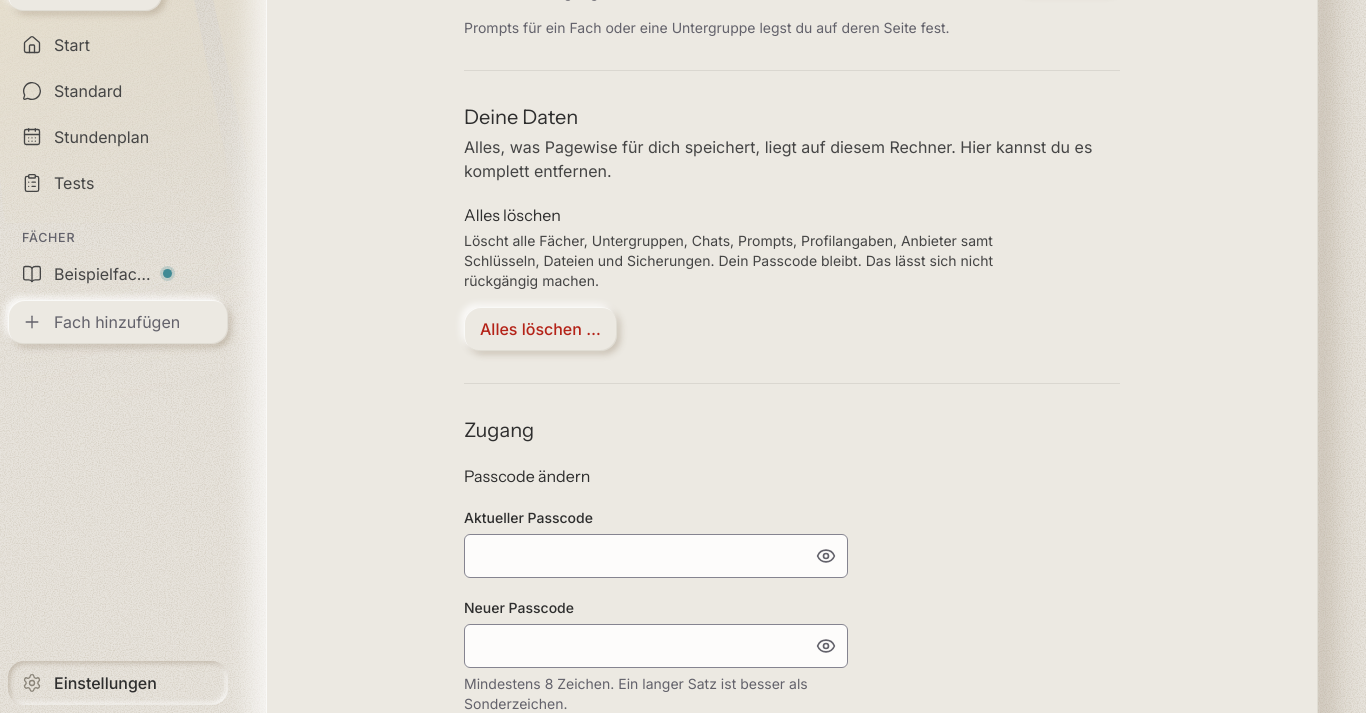
Scenario: Alles löschen › löscht nichts, solange man abbricht oder schließt
(page scrolled)
Click the button "Alles löschen …": (540, 329) x1=464 y1=307 x2=617 y2=351
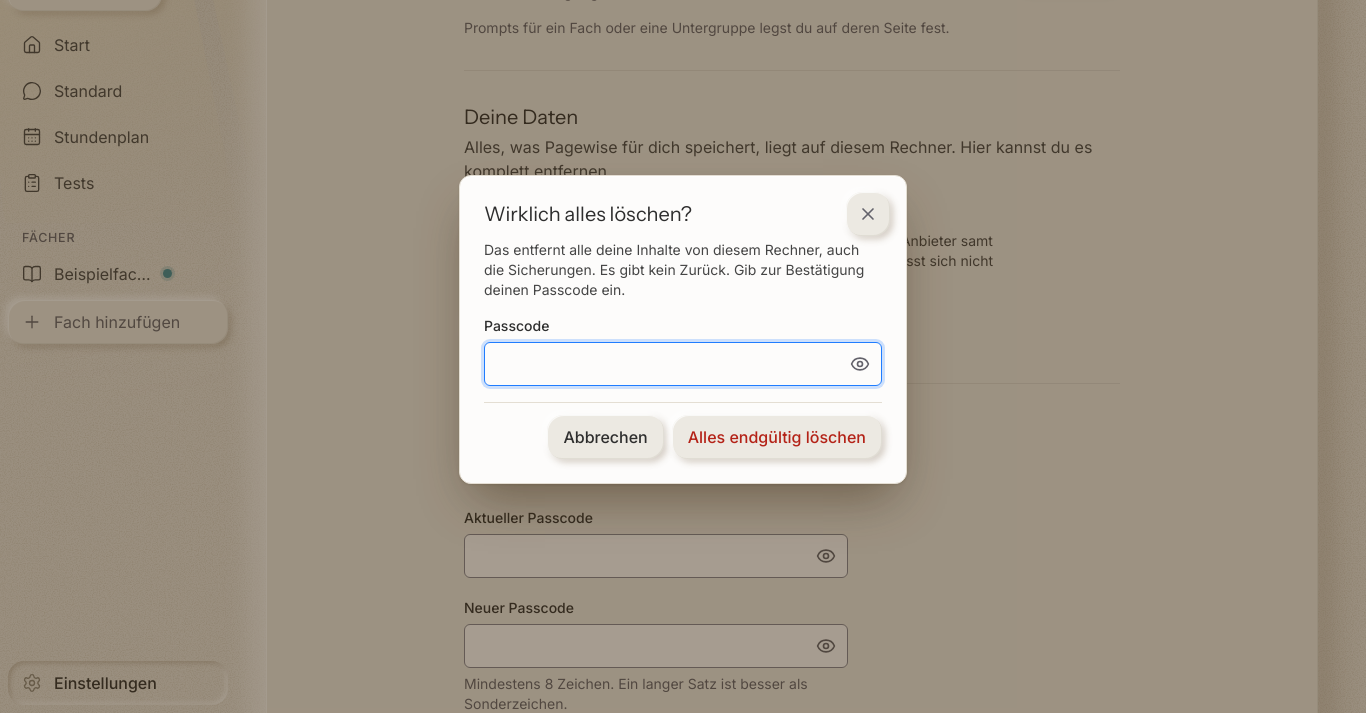
Click the button "Abbrechen": (606, 436) x1=547 y1=414 x2=664 y2=458
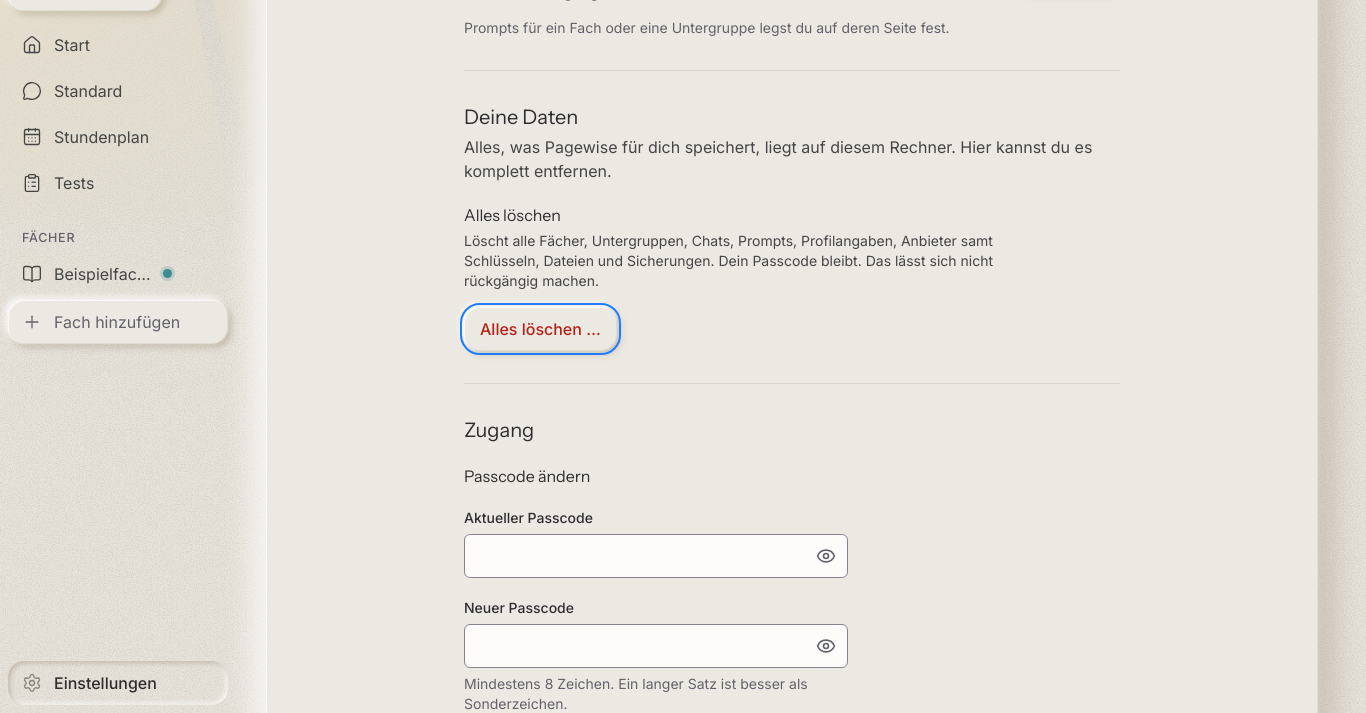
Check: the dialog is gone
Click the button "Alles löschen …": (540, 329) x1=464 y1=307 x2=617 y2=351
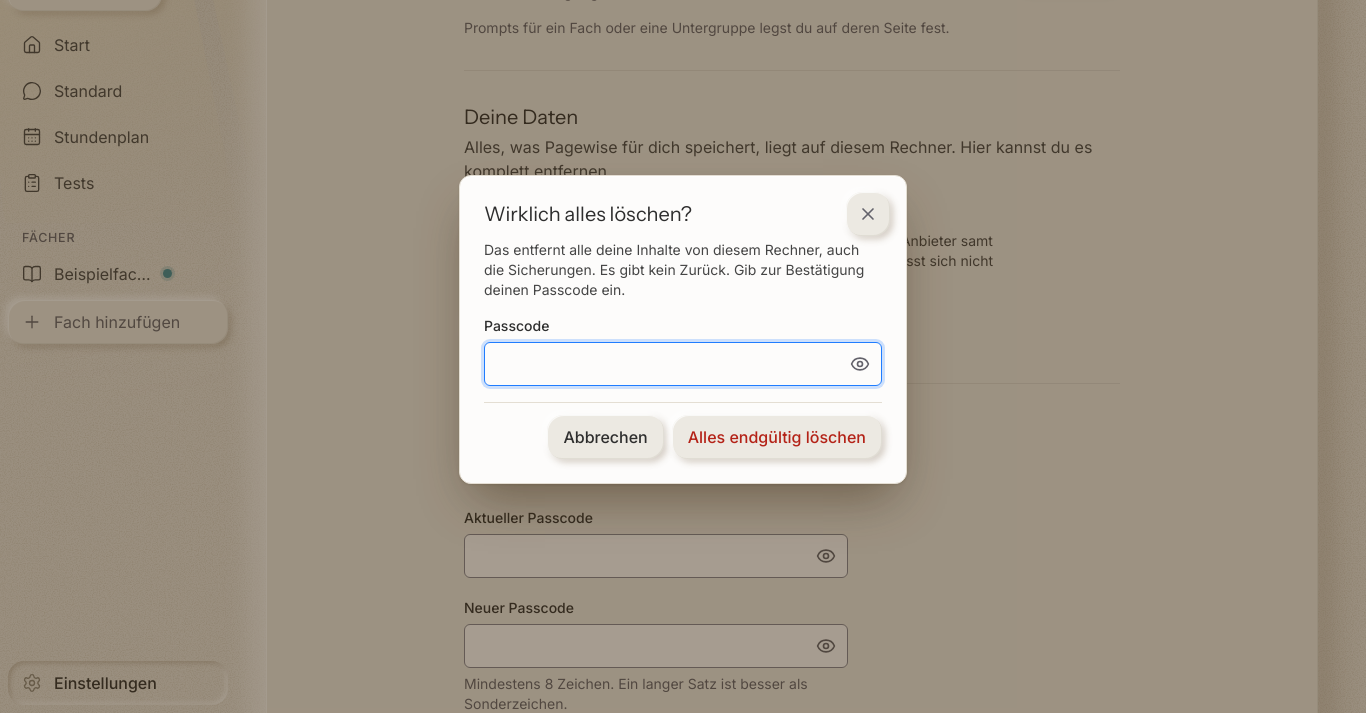
Press Escape
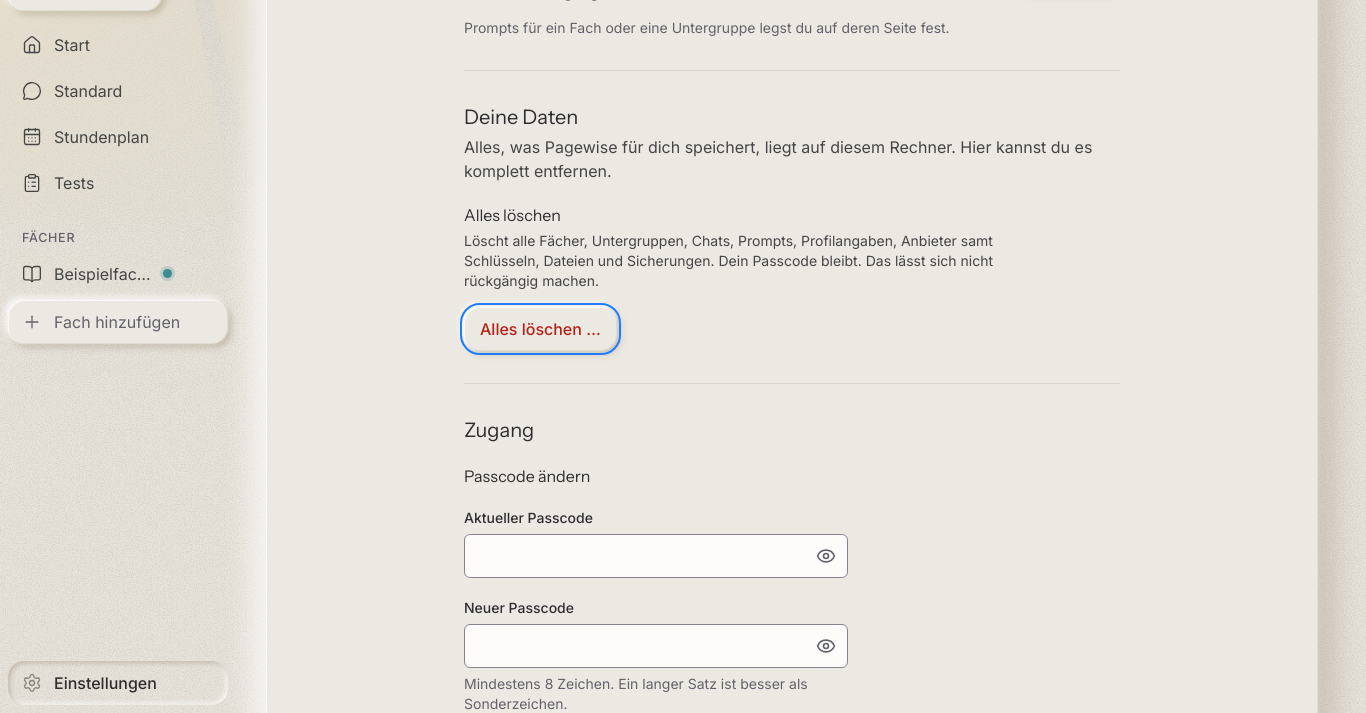
Check: the dialog is gone
